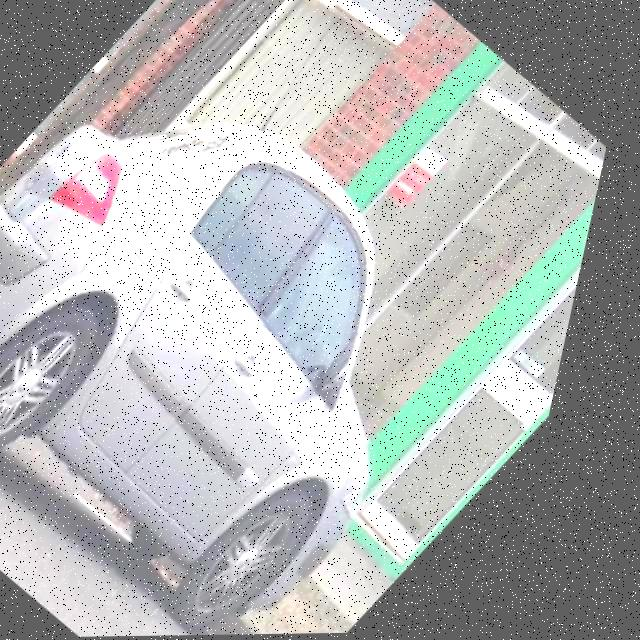license_plate: (0, 218, 2, 260)
